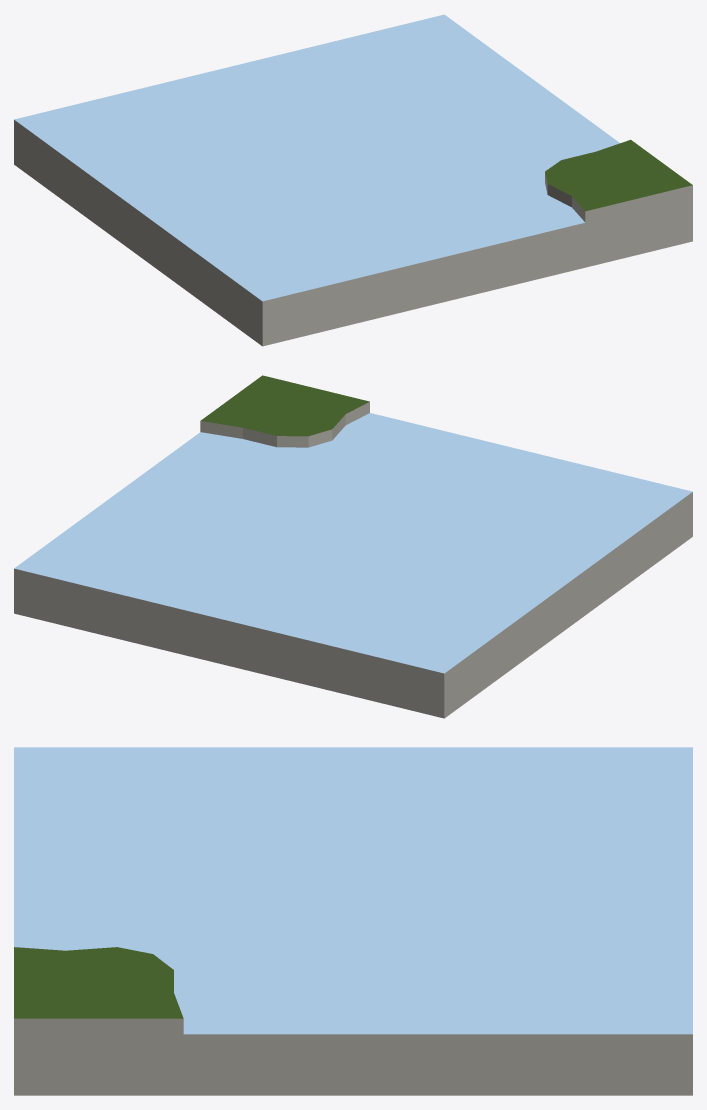
Rendered from Terrain_Tile_Grass_Rock_Water_Bank_Corner_05.fbx.
The picture shows the model from 3 angles, top to bottom: view 1: azimuth 30°, elevation 25°; view 2: azimuth 150°, elevation 25°; view 3: azimuth 270°, elevation 25°; orthographic projection. The views are drawn at different scales.
Parts seen in each view (by area): view 1: Terrain_Tile_Grass_Rock_Water_Bank_Corner_05; view 2: Terrain_Tile_Grass_Rock_Water_Bank_Corner_05; view 3: Terrain_Tile_Grass_Rock_Water_Bank_Corner_05.
Part boxes in pixels (left/top/right/bottom): Terrain_Tile_Grass_Rock_Water_Bank_Corner_05: left=14, top=14, right=692, bottom=346; Terrain_Tile_Grass_Rock_Water_Bank_Corner_05: left=14, top=375, right=692, bottom=718; Terrain_Tile_Grass_Rock_Water_Bank_Corner_05: left=14, top=747, right=692, bottom=1095.
Bounding box in the file's own units: 126 × 15.75 × 126.
